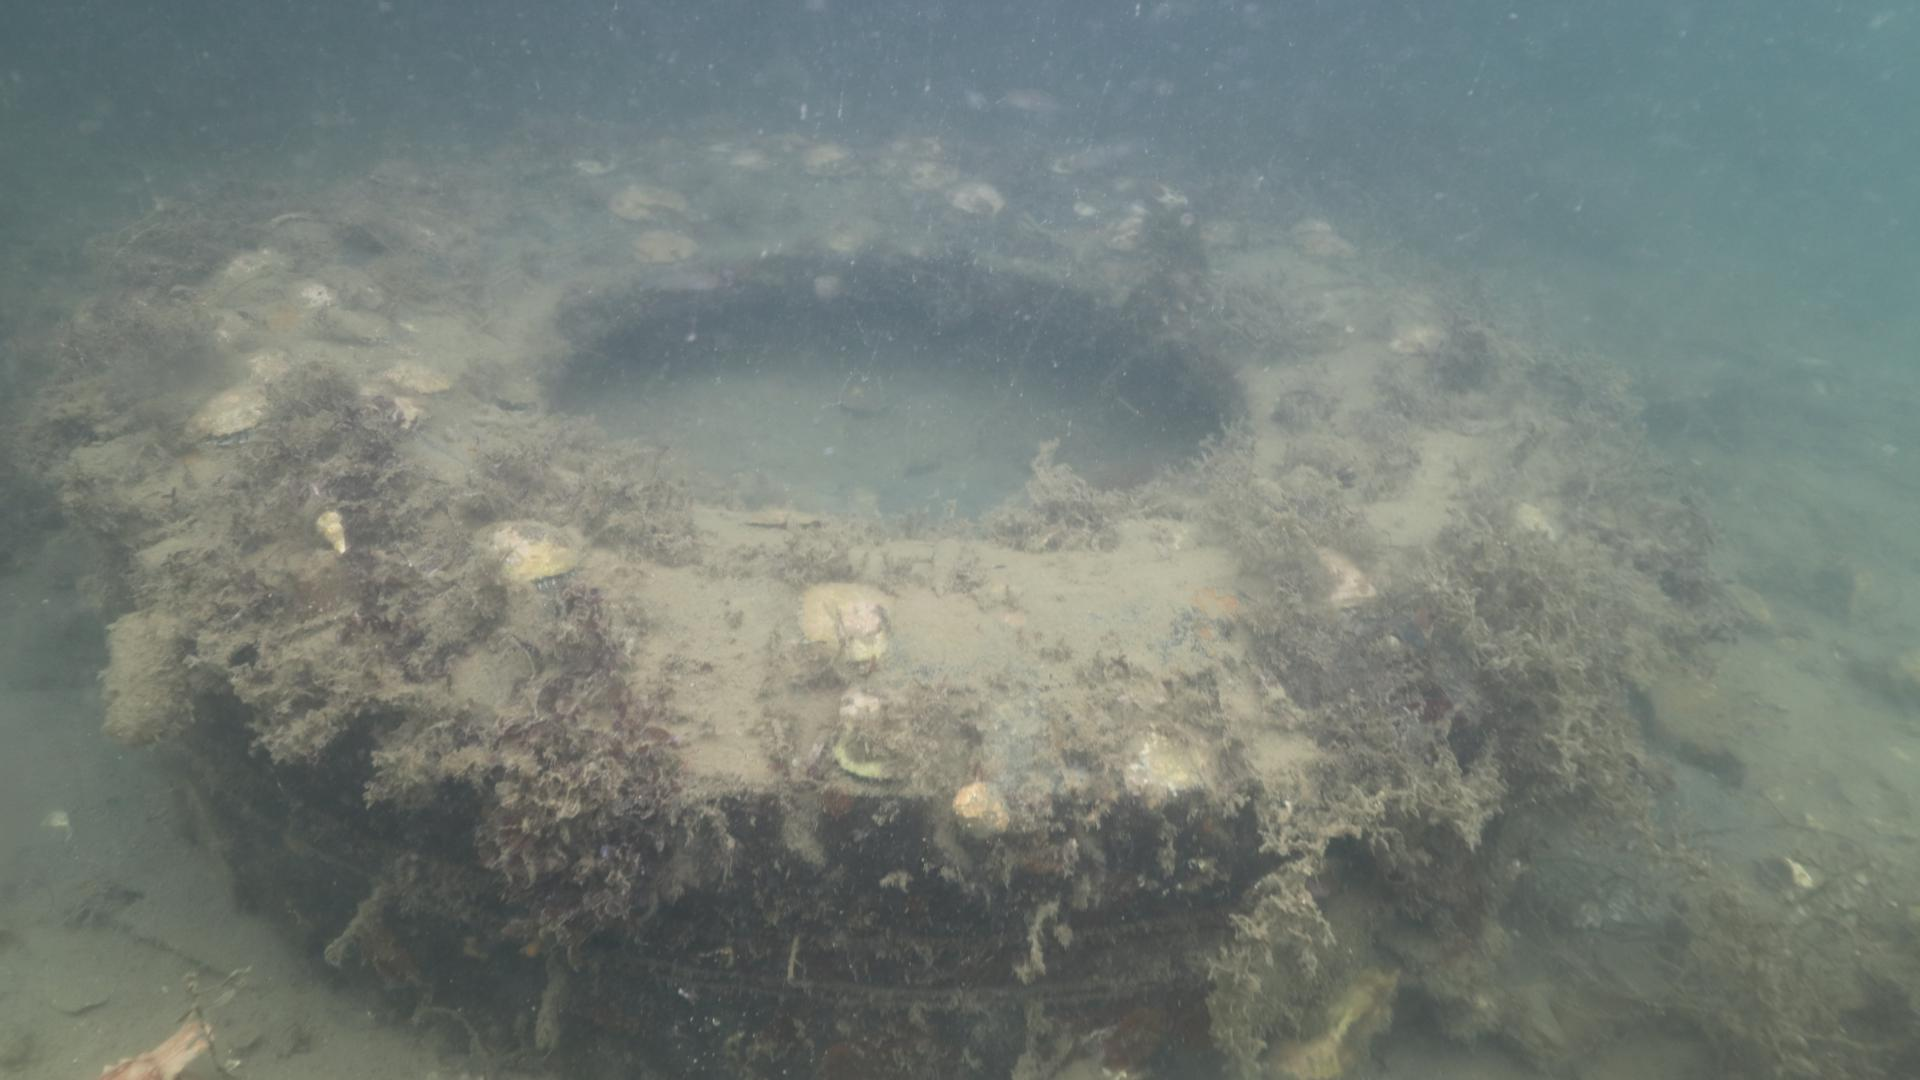tire: (127, 125, 1576, 1080)
